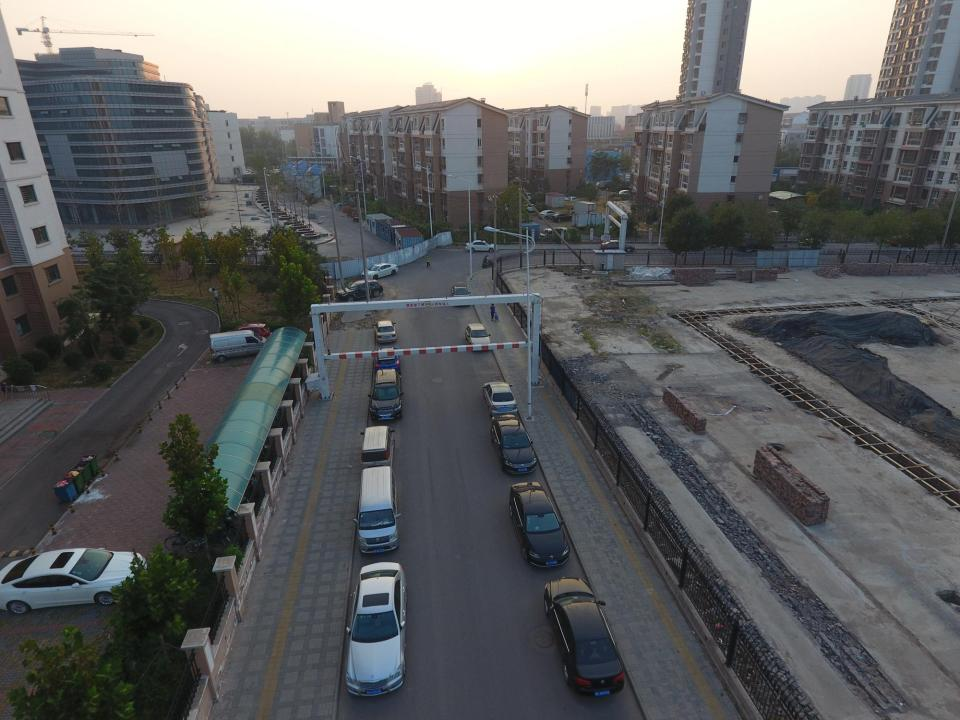car: (1, 545, 152, 614), (541, 576, 626, 698), (345, 560, 408, 698), (507, 480, 571, 569), (490, 412, 538, 476), (368, 368, 404, 422), (216, 322, 273, 350), (482, 380, 519, 416), (335, 279, 384, 302), (372, 344, 403, 377), (464, 322, 493, 352), (360, 262, 398, 280), (373, 320, 398, 344), (601, 240, 636, 252), (451, 284, 470, 306), (464, 240, 498, 252), (550, 213, 573, 222), (538, 210, 558, 219), (523, 204, 540, 212), (616, 190, 631, 197)
truck: (571, 213, 608, 230), (569, 201, 597, 218)
van: (353, 466, 403, 555), (209, 330, 269, 362), (359, 425, 394, 470), (538, 226, 568, 241)
